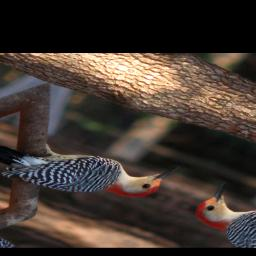Woodpecker: (0, 112, 183, 220)
